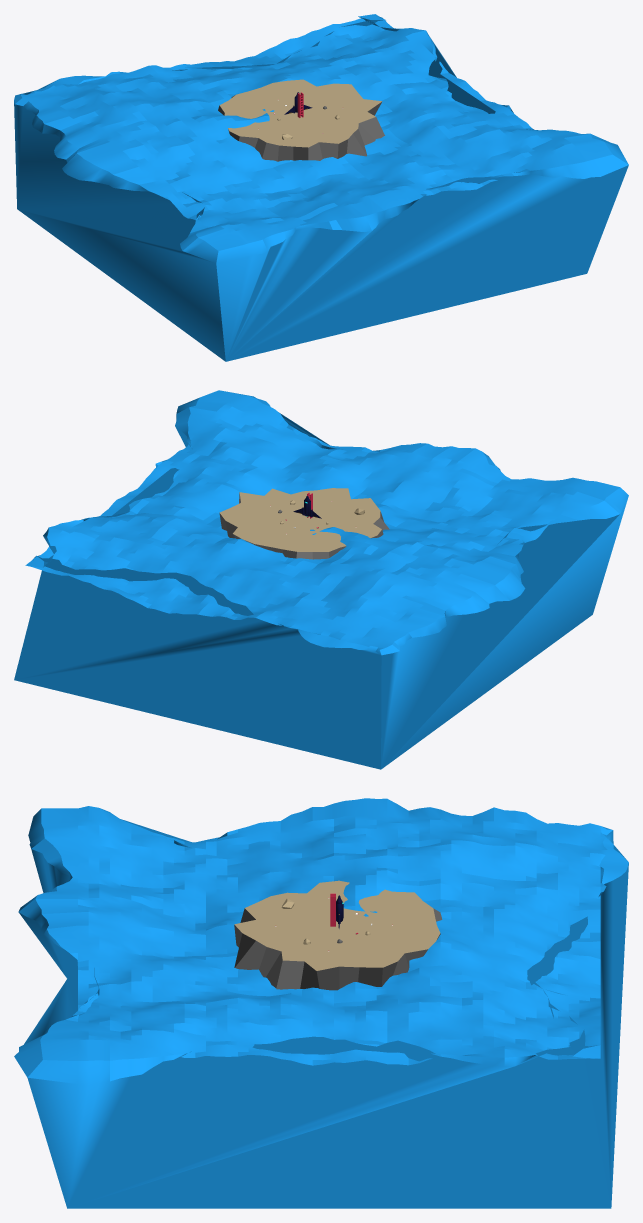
Rendered from fusee.glb.
3 views of the same model, one above another, from view 1: azimuth 30°, elevation 25°; view 2: azimuth 150°, elevation 25°; view 3: azimuth 270°, elevation 25° (orthographic). The views are drawn at different scales.
Visible parts, largest first — view 1: waterLowPoly, rocher de decolage; view 2: waterLowPoly, rocher de decolage; view 3: waterLowPoly, rocher de decolage.
Boxes of the visible parts, x1,y1,x2,y2 form: waterLowPoly: (14,14,628,361); rocher de decolage: (218,79,384,161); waterLowPoly: (14,390,628,769); rocher de decolage: (219,488,389,559); waterLowPoly: (14,798,628,1208); rocher de decolage: (234,880,442,990).
Bounding box in the file's own units: 245 × 79.62 × 226.
